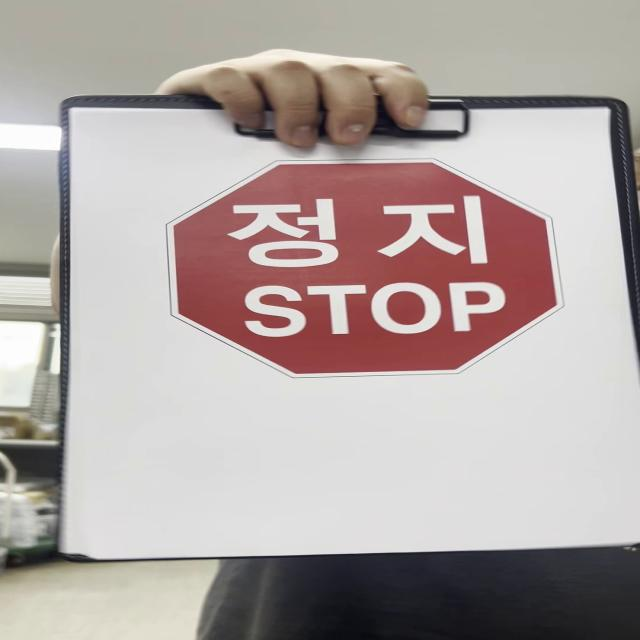stop: (169, 152, 570, 376)
